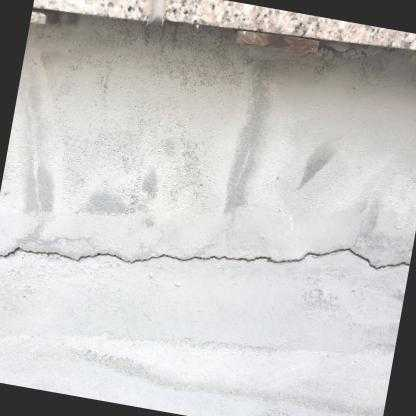crack: (0, 246, 409, 271)
